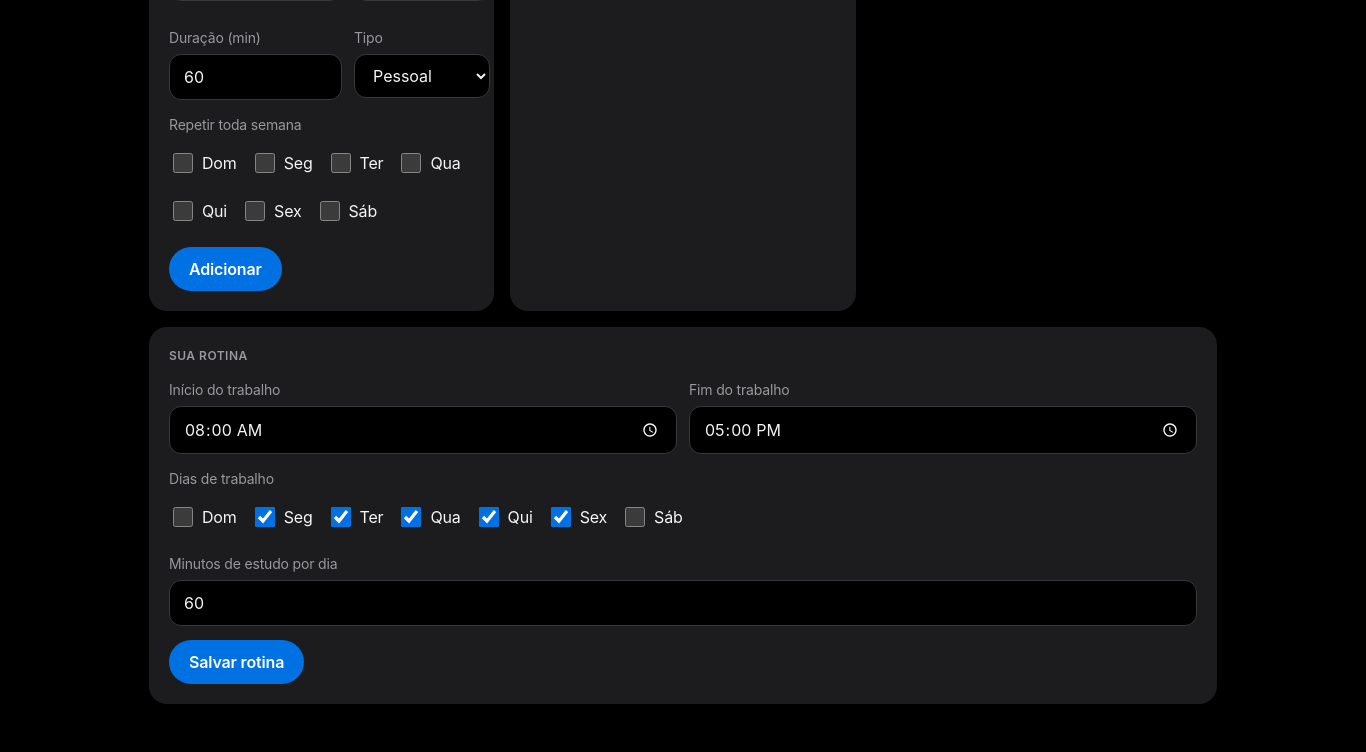
Scenario: rotina com minutos inválidos mostra erro e não salva
The width and height of the screenshot is (1366, 752).
(page scrolled)
Replace the text in the field labelled "Minutos de estudo por dia" with "abc" at (683, 603), box 169,580 -> 1197,626
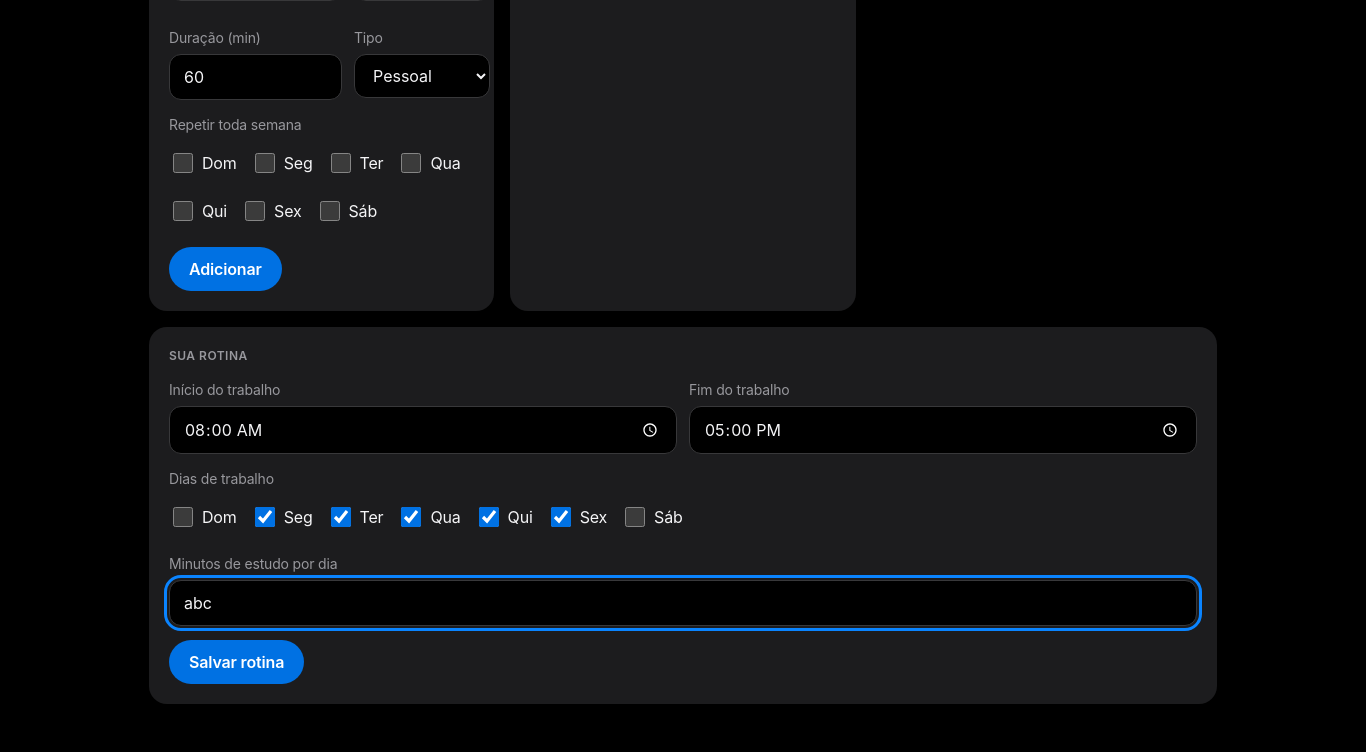
Click the button "Salvar rotina" at (237, 662), box 169,640 -> 304,684
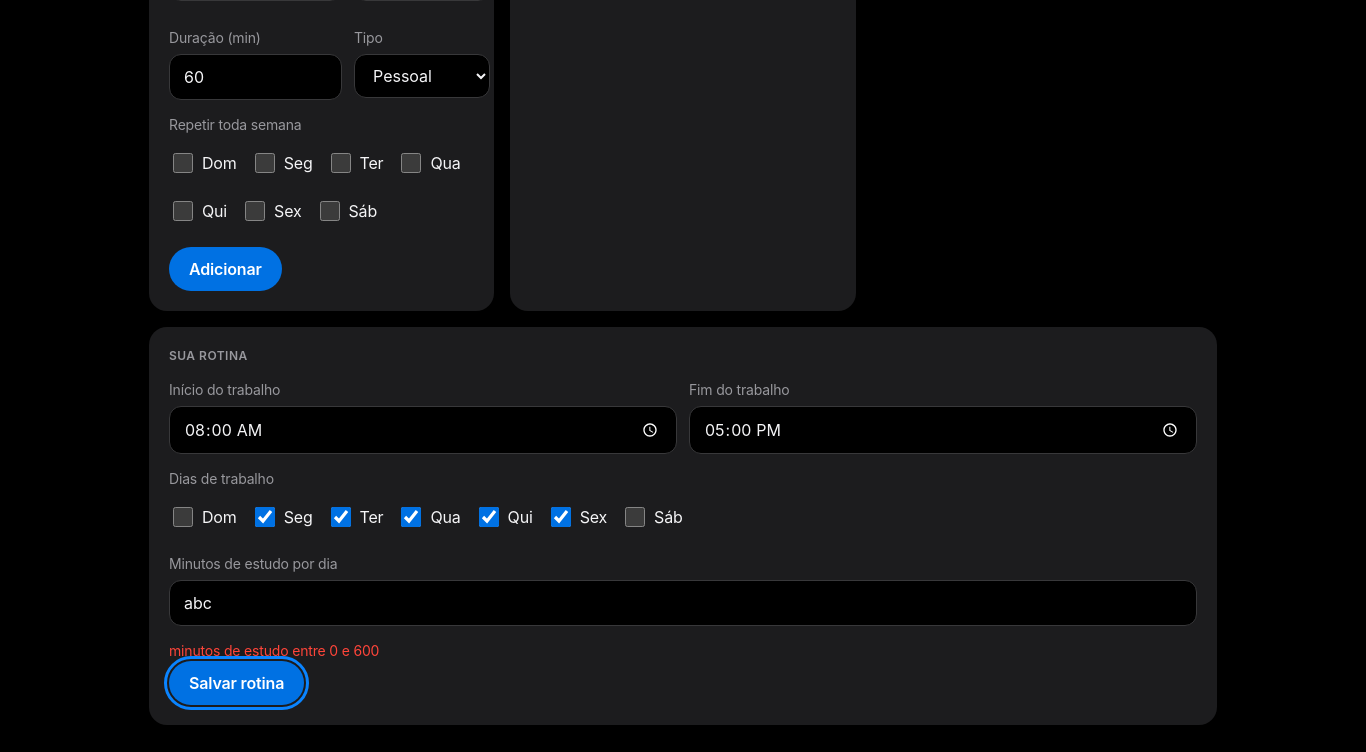
Now the text "minutos de estudo entre 0 e 600" is shown, box 169,642 -> 379,659
